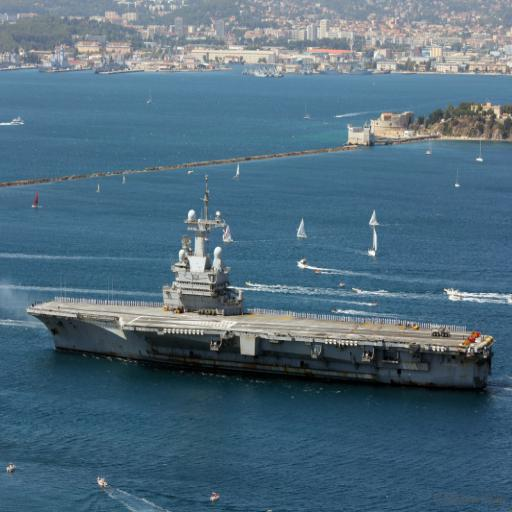Portanaves: (25, 172, 499, 396)
